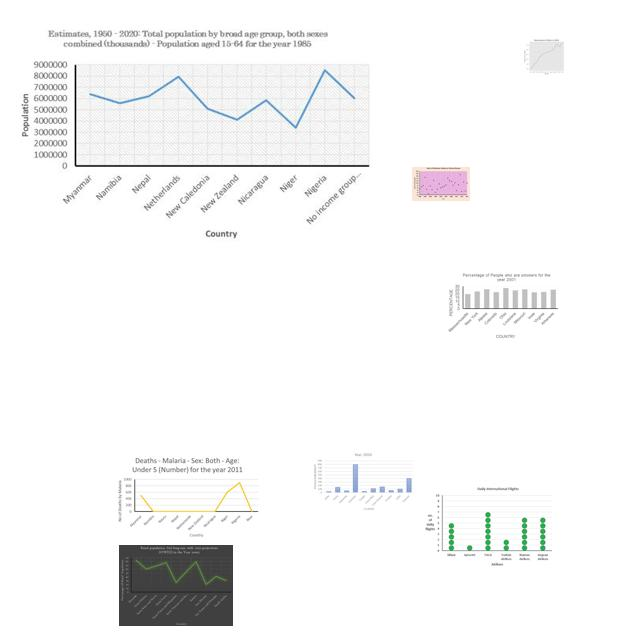Graph: (8, 23, 377, 242), (113, 454, 261, 540), (425, 485, 552, 567), (119, 545, 233, 626), (447, 272, 561, 340), (310, 450, 416, 514), (412, 167, 470, 201), (521, 37, 571, 75)
